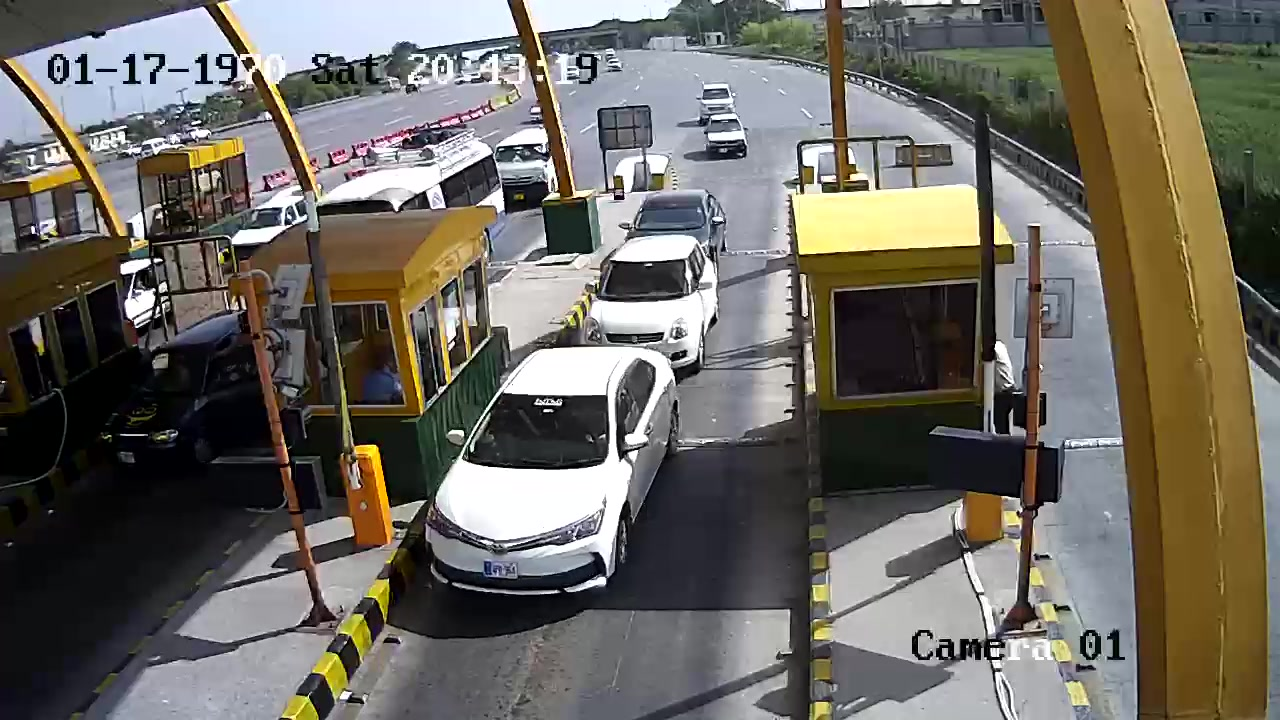F1: (408, 345, 700, 607)
